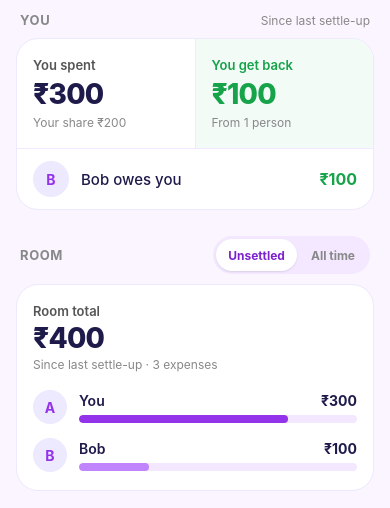
Scenario: HomeScreen › switches to all-time totals without another request
Click the tab "All time": click(333, 255) [311,248,355,262]
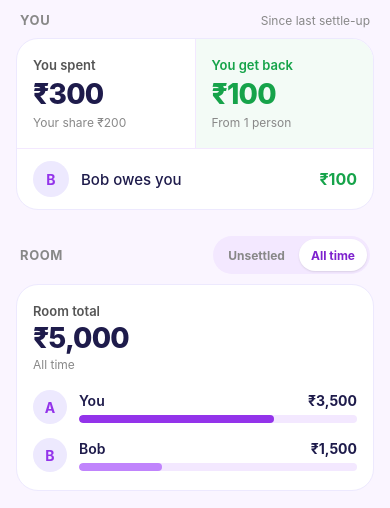
Expected: the text "₹5,000" is shown, [33,321,129,355]
Expected: the text "₹3,500" is shown, [308,392,357,408]
Expected: the text "₹1,500" is shown, [311,440,357,456]
